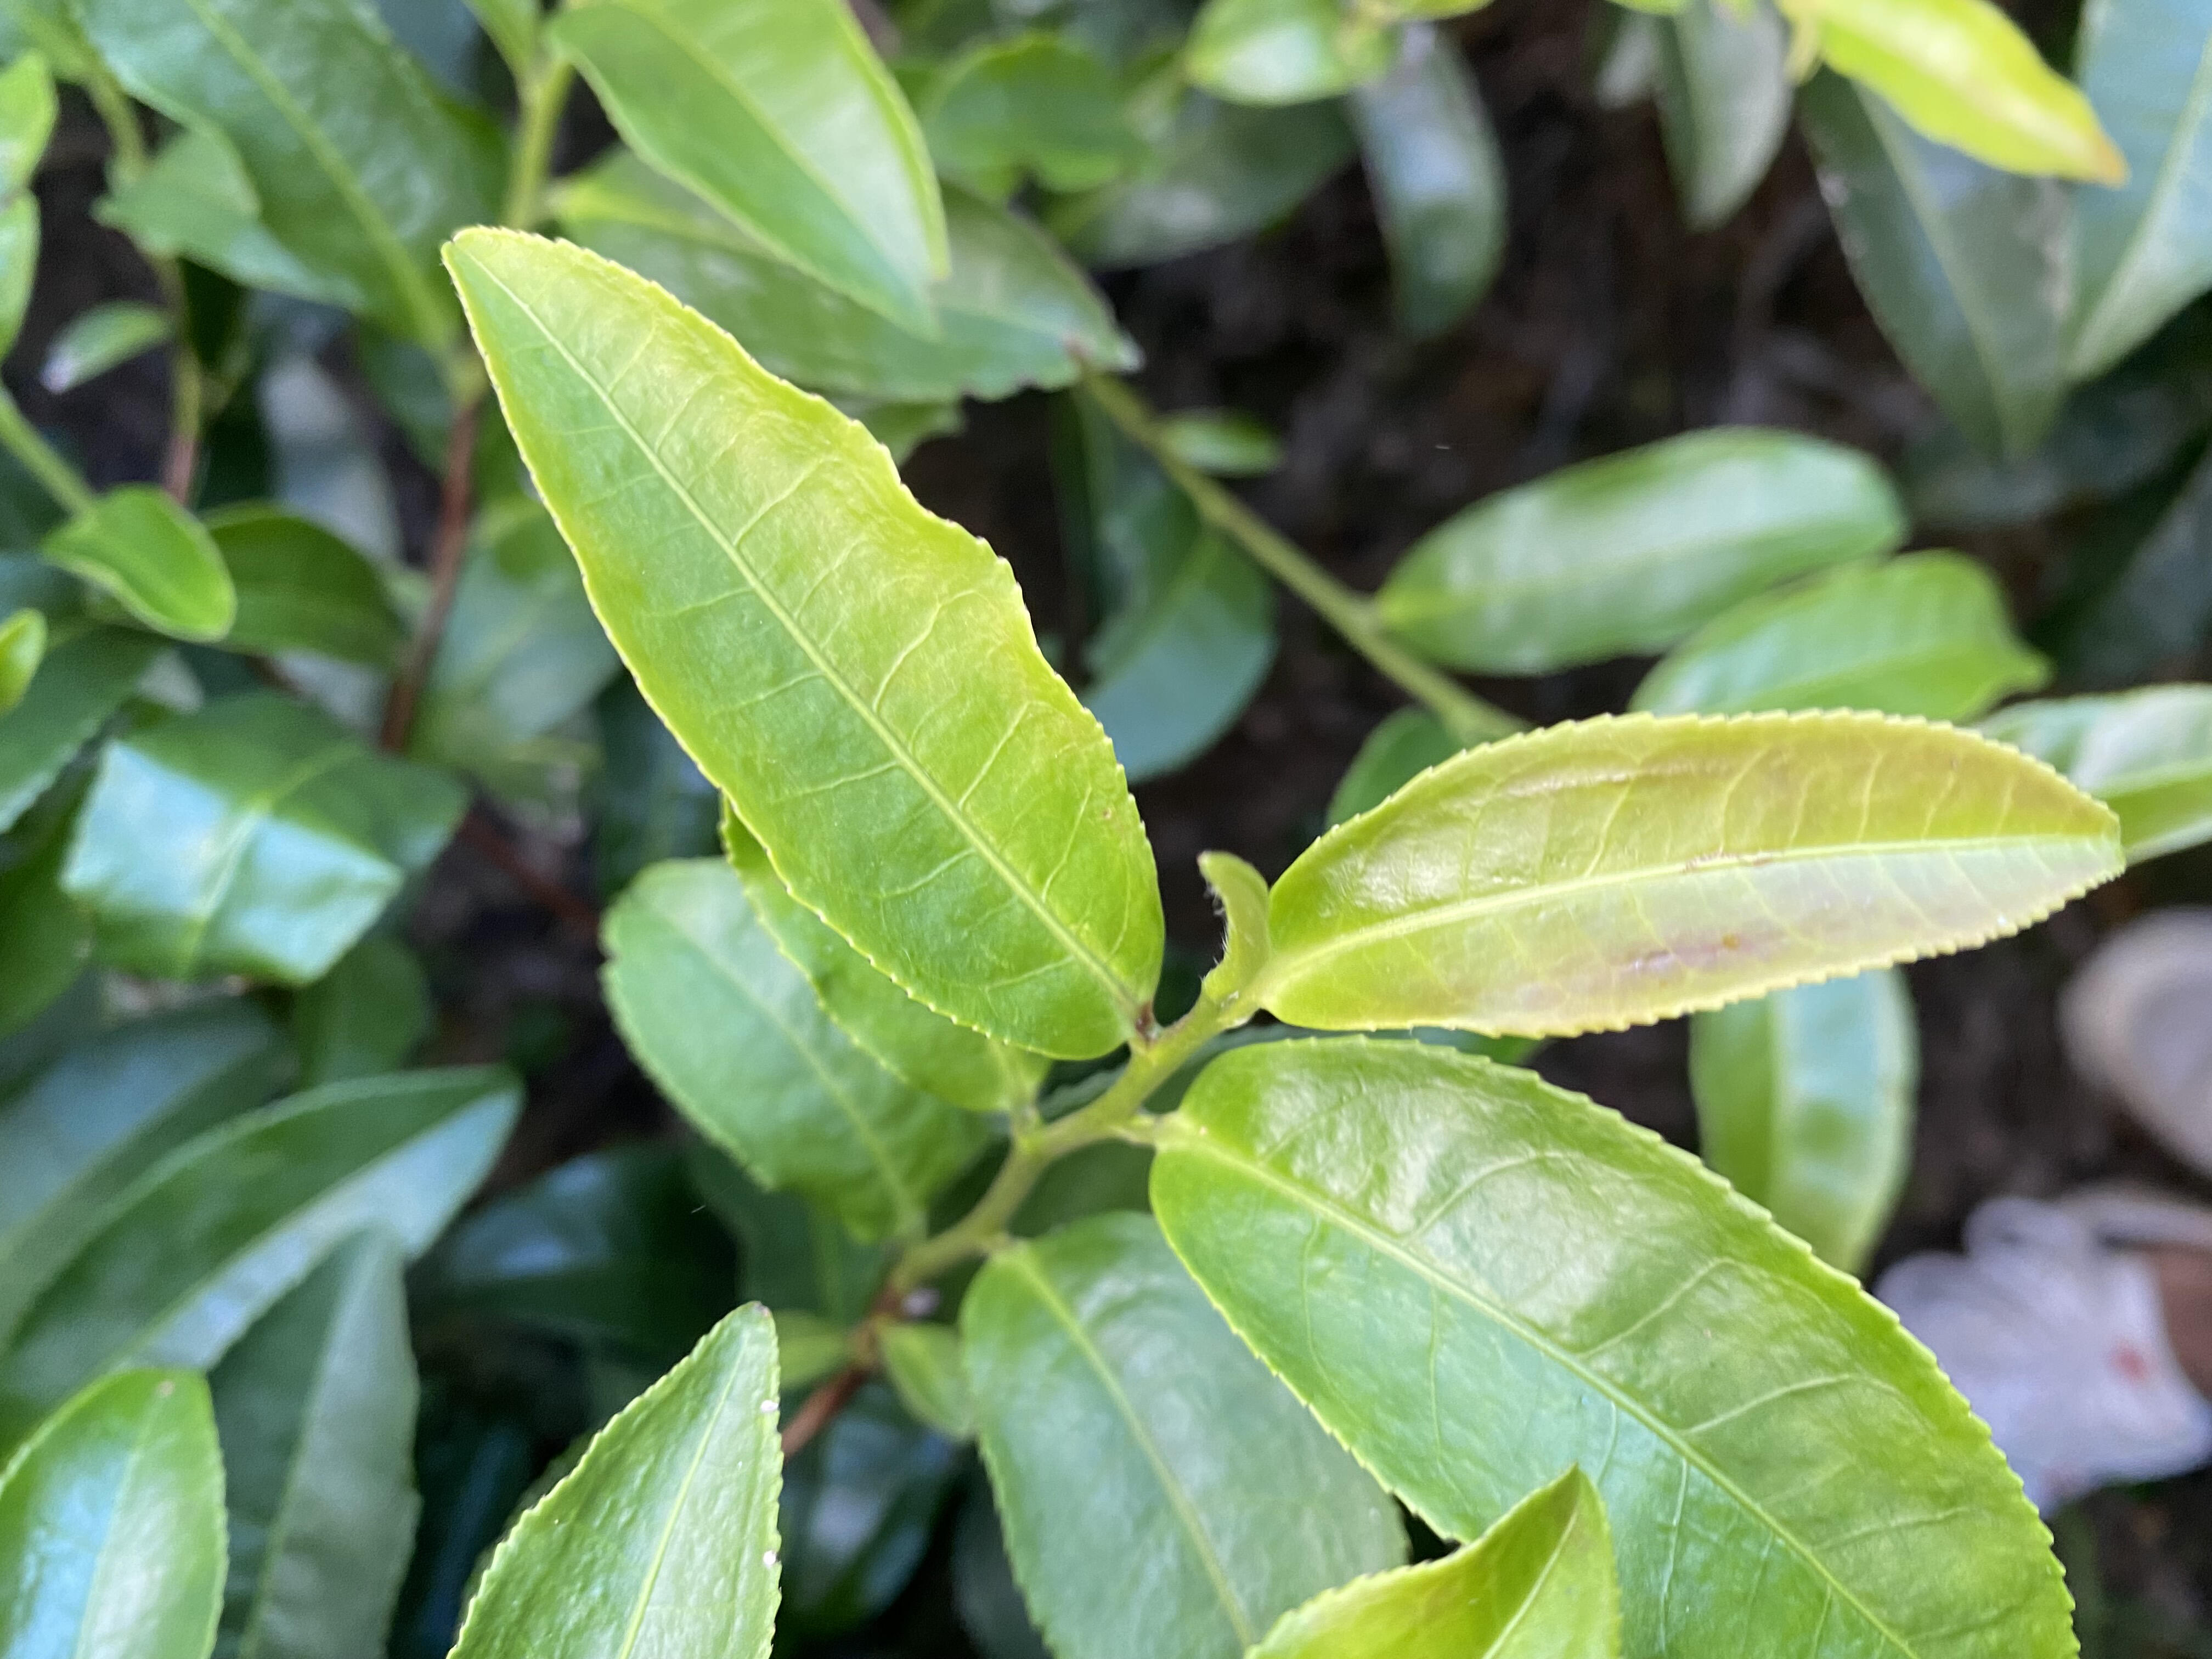healthy: (434, 223, 1167, 1063), (1150, 1035, 2081, 1657)
tanju_low: (1261, 706, 2128, 1046)
